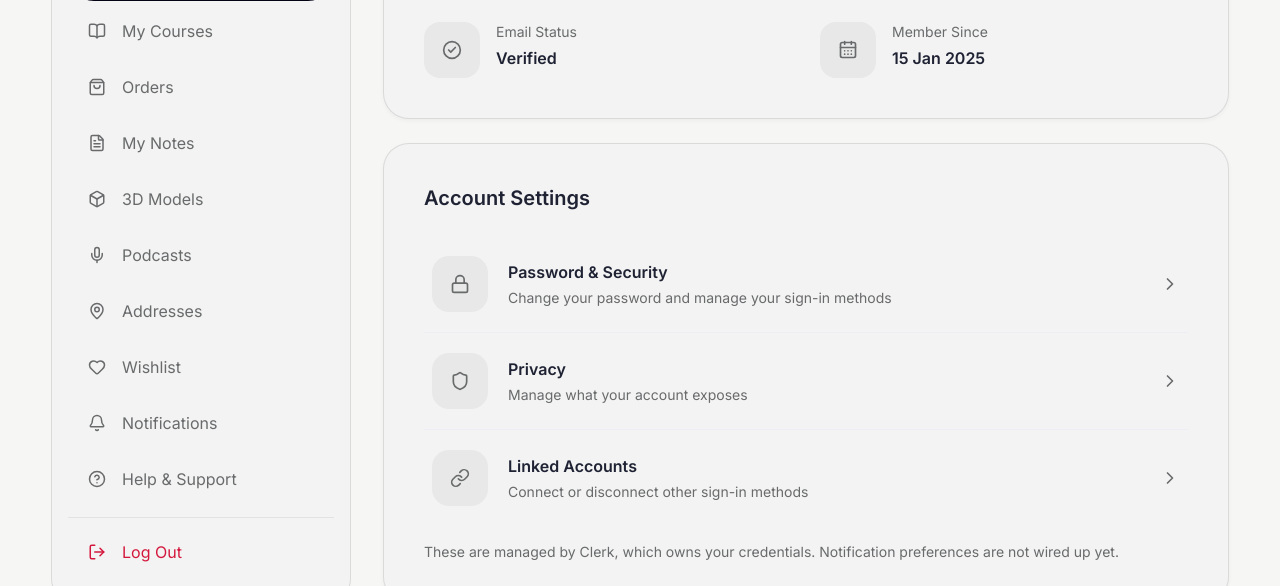
navigation › switches to the Help & Support section instead of only highlighting it
(page scrolled)
Click the button "Help & Support" at x=201, y=479, box x1=68 y1=453 x2=334 y2=505
(page scrolled)
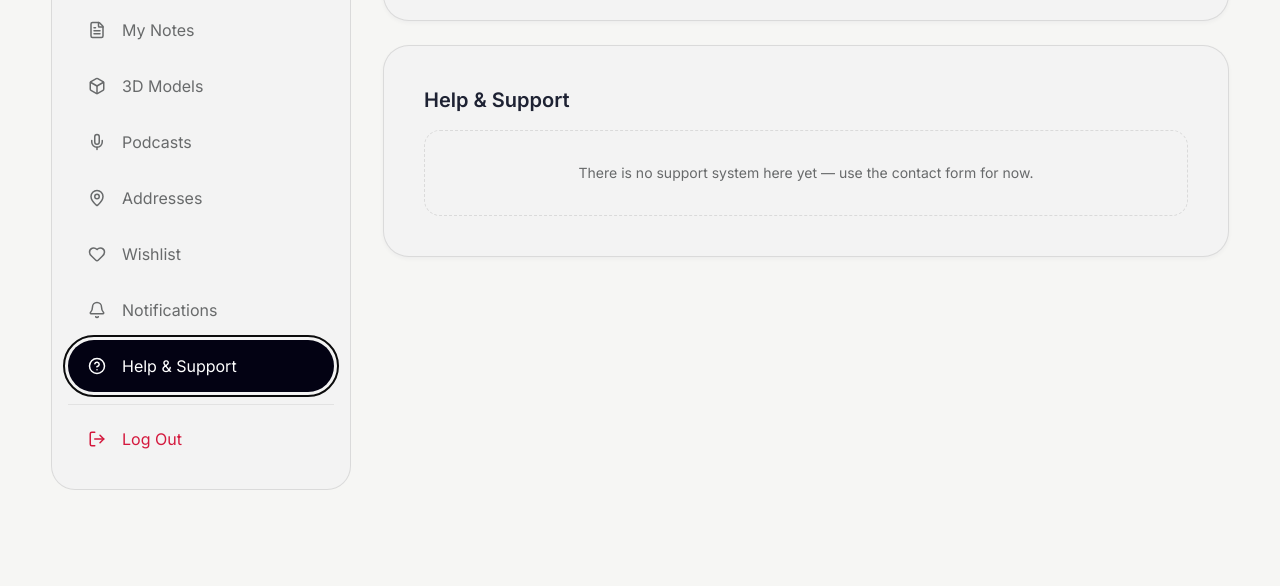
Check: the heading "Help & Support" is shown, box x1=424 y1=88 x2=570 y2=112
